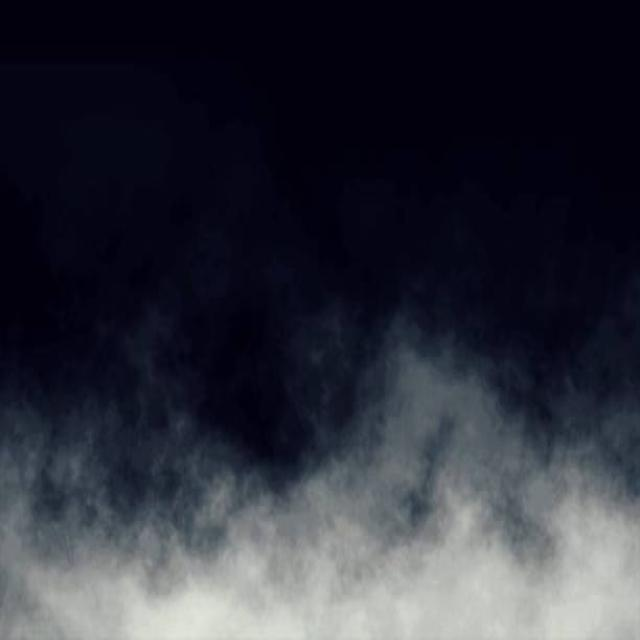smoke: (5, 326, 640, 630)
